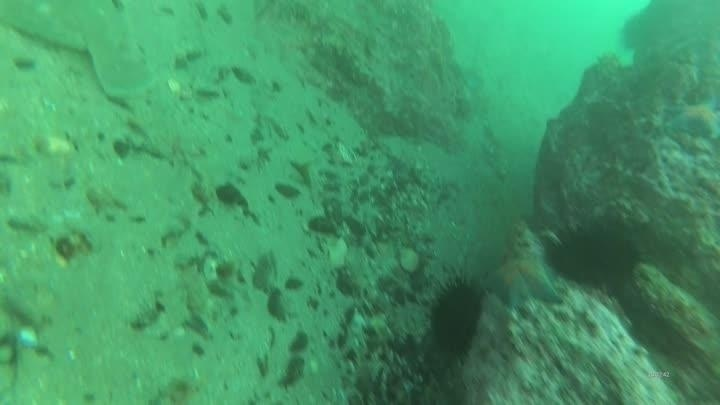echinus: (541, 217, 643, 291), (426, 274, 487, 359)
starfish: (481, 242, 565, 312), (664, 94, 720, 143)
